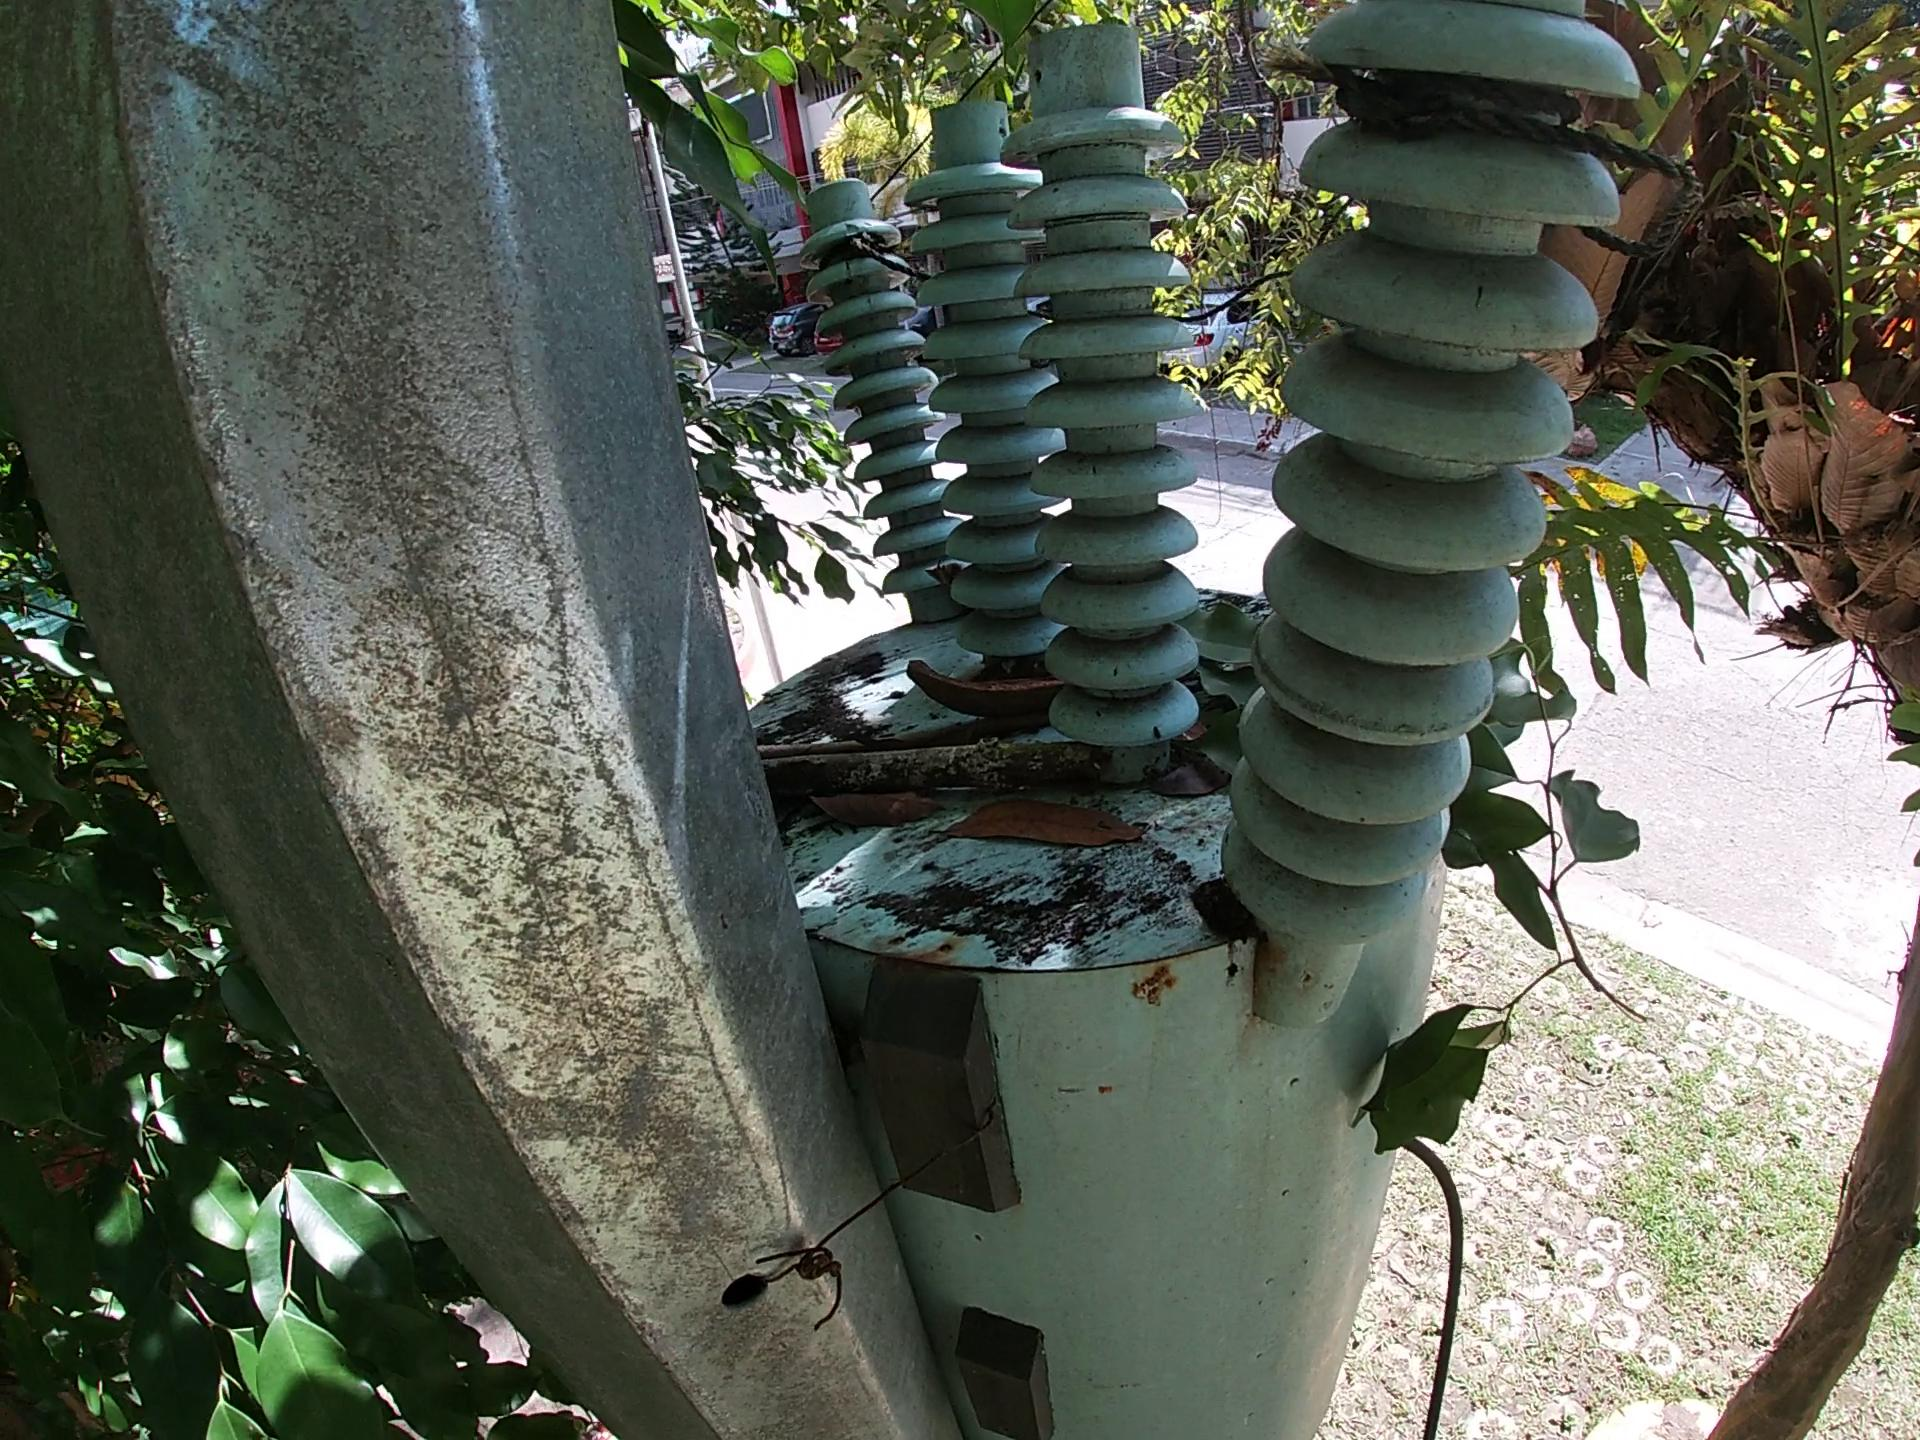branch with leaves: (1355, 635, 1666, 1206)
leaf: (1175, 594, 1264, 771), (946, 796, 1141, 850), (801, 781, 930, 836)
mahogany fruit: (898, 646, 1076, 711)
tree branch: (753, 750, 1105, 781)
